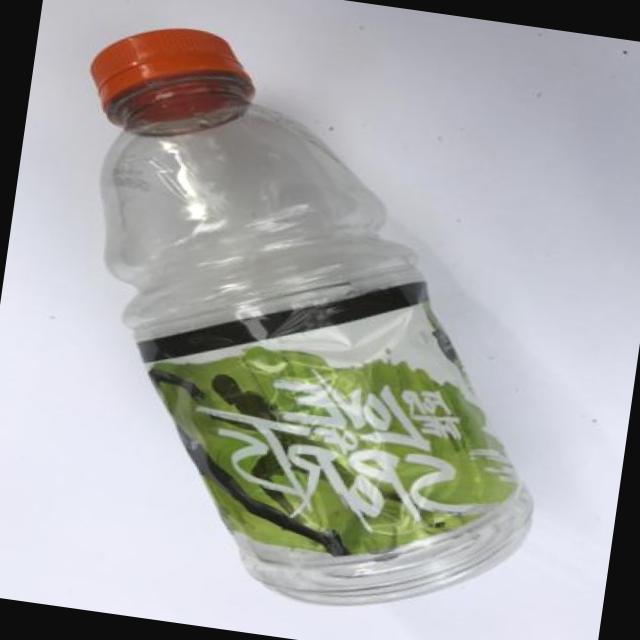bottle: (92, 29, 531, 604)
plastic: (229, 347, 459, 519), (91, 28, 253, 132)
